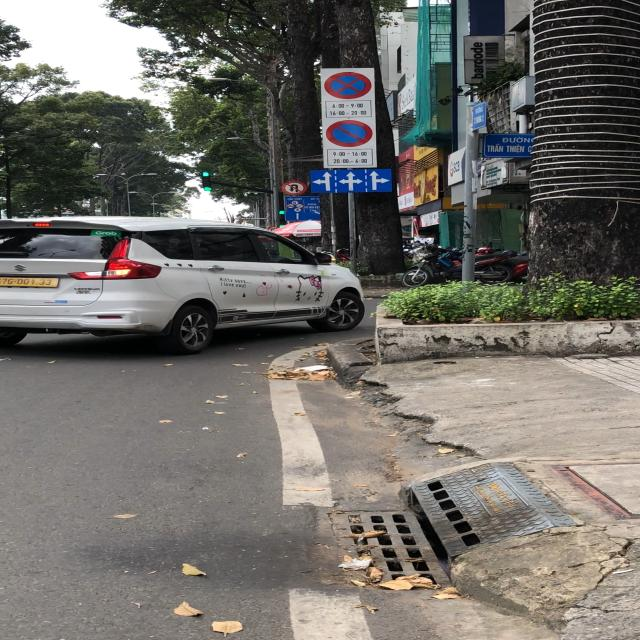Bien bao cam do xe: (324, 119, 374, 146)
Bien bao cam dung xe va do xe: (321, 70, 373, 101)
Bien bao cam re trai va quay dau: (282, 180, 311, 197)
